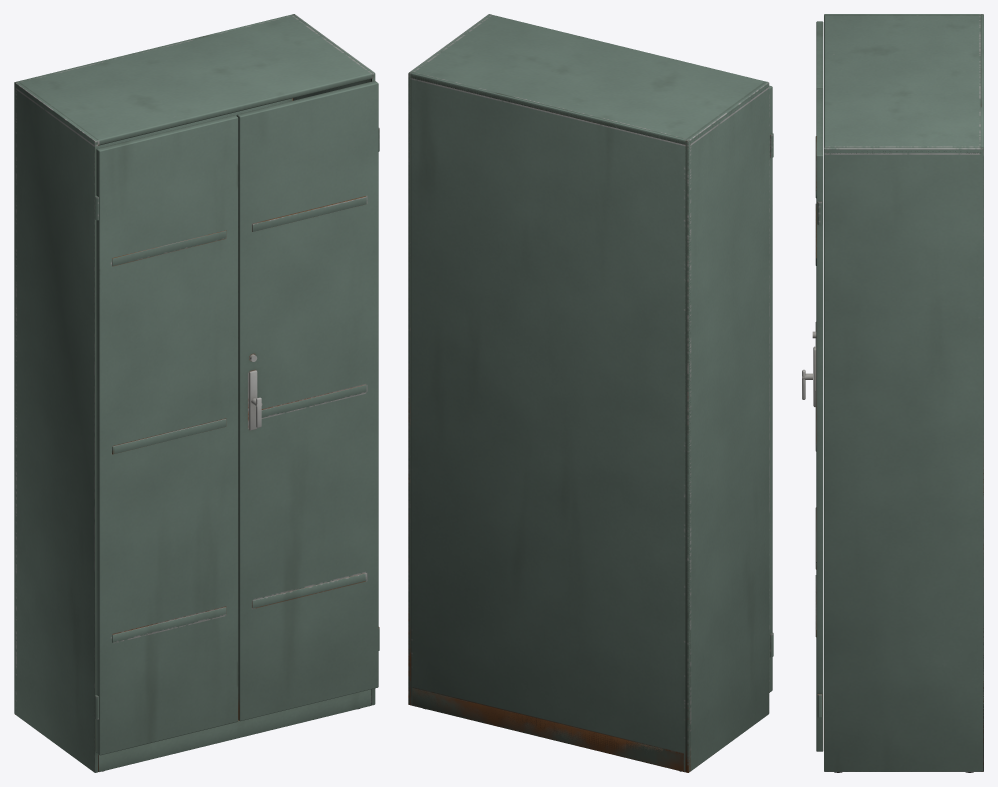
File: archiv_gruen.glb
The picture shows the model from 3 angles, left to right: view 1: azimuth 30°, elevation 25°; view 2: azimuth 150°, elevation 25°; view 3: azimuth 270°, elevation 25°; orthographic projection.
Visible parts, largest first — view 1: tuer_links, tuer_rechts, korpus; view 2: korpus, tuer_links; view 3: korpus, tuer_rechts, tuer_links.
Part boxes in pixels (x1,y1,x2,y2): tuer_links: (96, 115, 238, 755); tuer_rechts: (236, 81, 378, 721); korpus: (14, 14, 379, 772); korpus: (408, 14, 773, 772); tuer_links: (769, 85, 772, 692); korpus: (817, 14, 983, 772); tuer_rechts: (802, 89, 823, 751); tuer_links: (815, 21, 823, 569).
Size of the model in its own units: 0.9093 by 1.95 by 0.512.
Materials: 1 (1 with a texture image).
